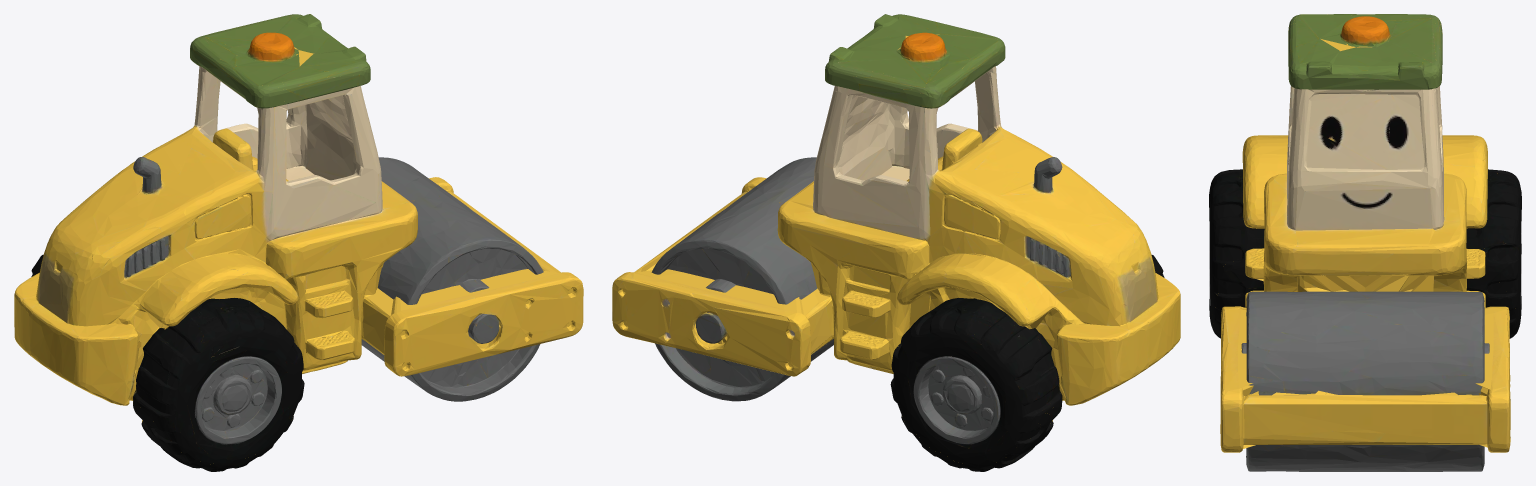
The model's file is roller_v1.glb.
The picture shows the model from 3 angles, left to right: view 1: azimuth 30°, elevation 25°; view 2: azimuth 150°, elevation 25°; view 3: azimuth 270°, elevation 25°; orthographic projection. The views are drawn at different scales.
Parts seen in each view (by area): view 1: body_mesh, wheelR_mesh, drum_mesh, beacon_mesh; view 2: body_mesh, wheelR_mesh, drum_mesh, beacon_mesh; view 3: body_mesh, drum_mesh, wheelR_mesh, beacon_mesh.
Boxes of the visible parts, <box> form: body_mesh: <box>14,14,583,471</box>; wheelR_mesh: <box>31,254,303,465</box>; drum_mesh: <box>361,157,543,401</box>; beacon_mesh: <box>205,15,359,104</box>; body_mesh: <box>612,14,1180,471</box>; wheelR_mesh: <box>891,255,1164,466</box>; drum_mesh: <box>651,157,833,401</box>; beacon_mesh: <box>838,20,997,105</box>; body_mesh: <box>1212,14,1519,452</box>; drum_mesh: <box>1241,275,1489,471</box>; wheelR_mesh: <box>1209,169,1521,327</box>; beacon_mesh: <box>1288,14,1442,68</box>.
Size of the model in its own units: 2.6 by 1.85 by 1.43.
Materials: 1 (1 with a texture image).
